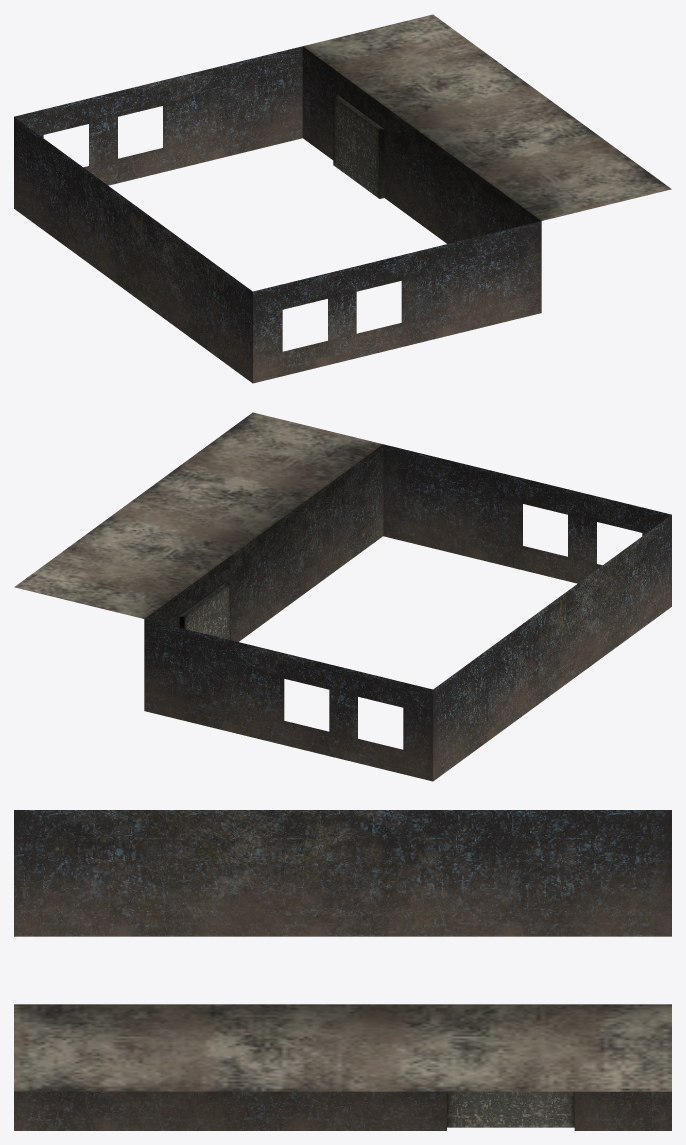
The model's file is GroundBase.FBX.
3 views of the same model, one above another, from view 1: azimuth 30°, elevation 25°; view 2: azimuth 150°, elevation 25°; view 3: azimuth 270°, elevation 25° (orthographic). The views are drawn at different scales.
Parts seen in each view (by area): view 1: GroundBase; view 2: GroundBase; view 3: GroundBase.
Part boxes in pixels (bbox=[...]): GroundBase: bbox=[14, 14, 671, 383]; GroundBase: bbox=[14, 412, 671, 781]; GroundBase: bbox=[14, 810, 671, 1130].
Bounding box in the file's own units: 2437 × 511 × 2405.
